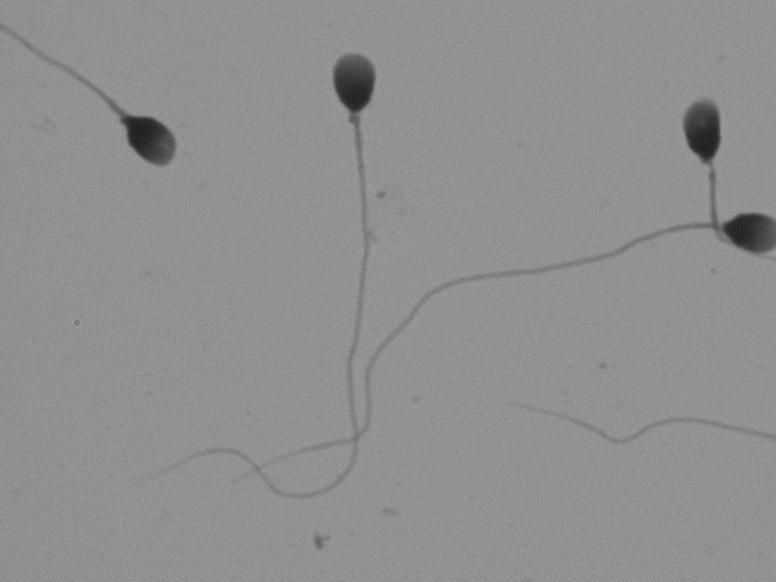Abnormal: (32, 42, 190, 216), (623, 73, 762, 213)
Normal: (210, 28, 415, 523)
